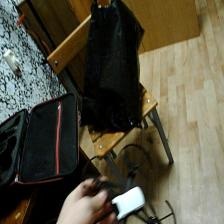drone: (75, 138, 180, 224)
